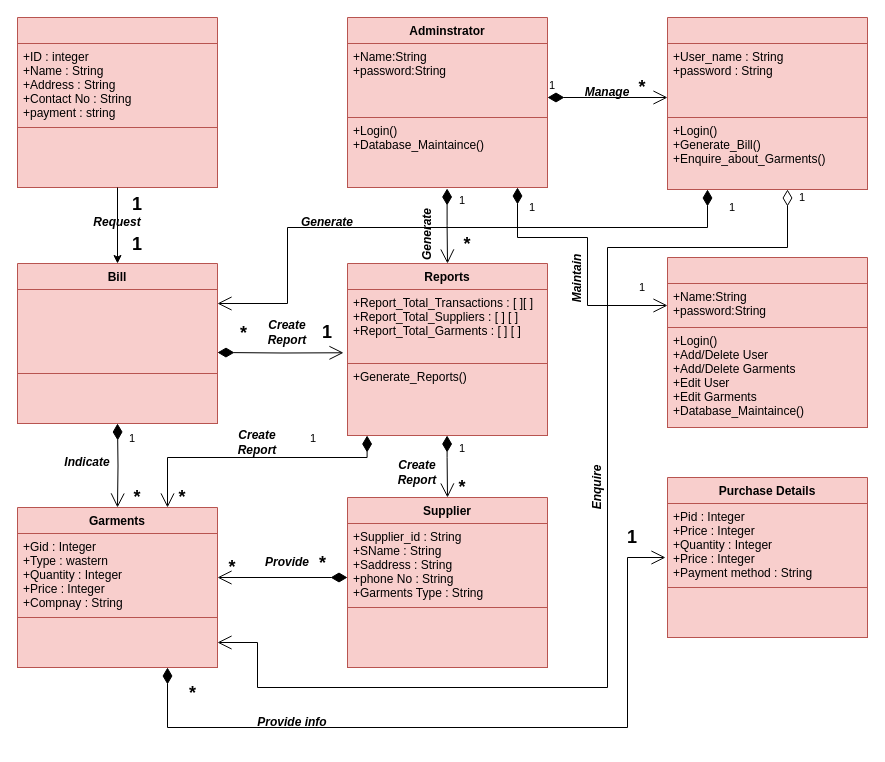
This 885x762 diagram has some shape labels left out. The shapes that lost their labels are listed below. From the top down, each one's box as (x1, y1, x2, y2) in pixels, then its label:
(16, 16, 218, 188): Customer
(666, 16, 868, 190): Employee
(16, 126, 218, 188): +Bill() +payment_method()
(16, 288, 218, 374): +BillNo : Integer +Quantity : integer +BillAmount : Int +Bill Date : String
(666, 256, 868, 428): Database Maintenance
(16, 372, 218, 424): +Calculation() +check_Discount()
(666, 586, 868, 638): +add() +delete() +update()
(16, 616, 218, 668): +VIew_Garments_Details()
(346, 606, 548, 668): +Supply() +Accept_Order()
